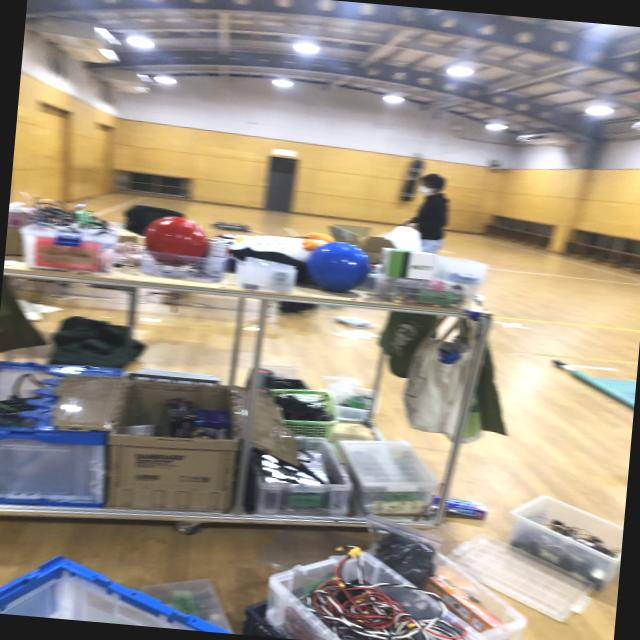blue_ball: (302, 236, 370, 292)
red_ball: (143, 211, 212, 265)
